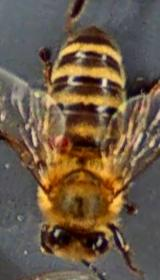varroa_mite: (45, 126, 81, 158)
